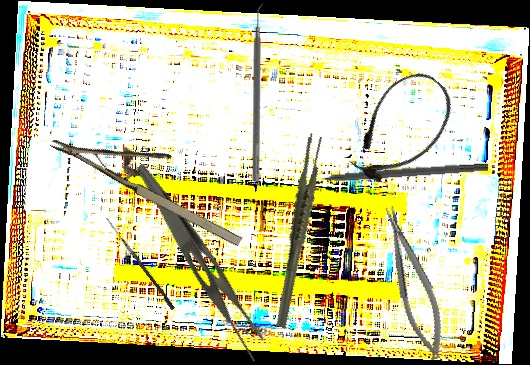Cannula: (335, 59, 467, 197)
Dressing Forceps: (115, 162, 280, 364)
Hook Surgical: (102, 217, 177, 311), (301, 160, 489, 185)
Needle Holder: (49, 100, 261, 253), (377, 201, 452, 364)
Spatula Surgical: (252, 3, 268, 181)
Tissue Forceps: (241, 132, 355, 330)
